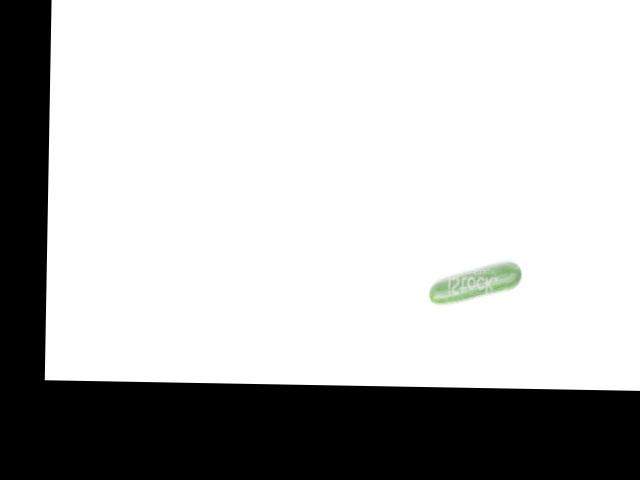cucumber: (429, 260, 522, 305)
